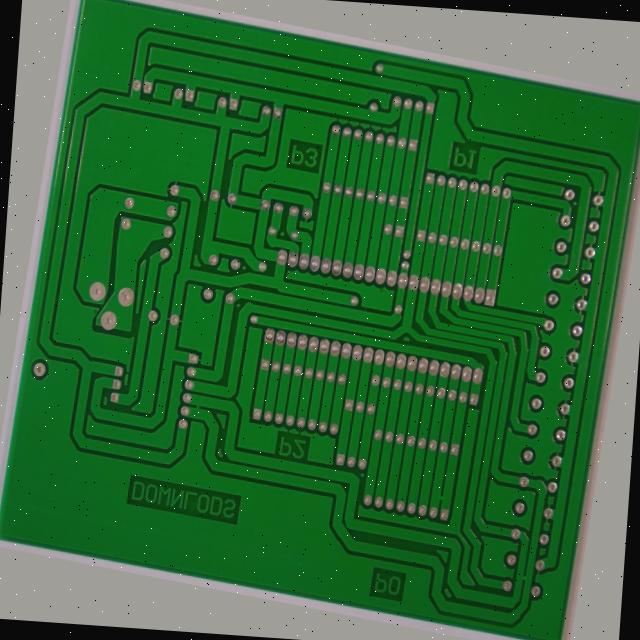short: (454, 483, 482, 512), (551, 565, 574, 589), (187, 420, 205, 446)
